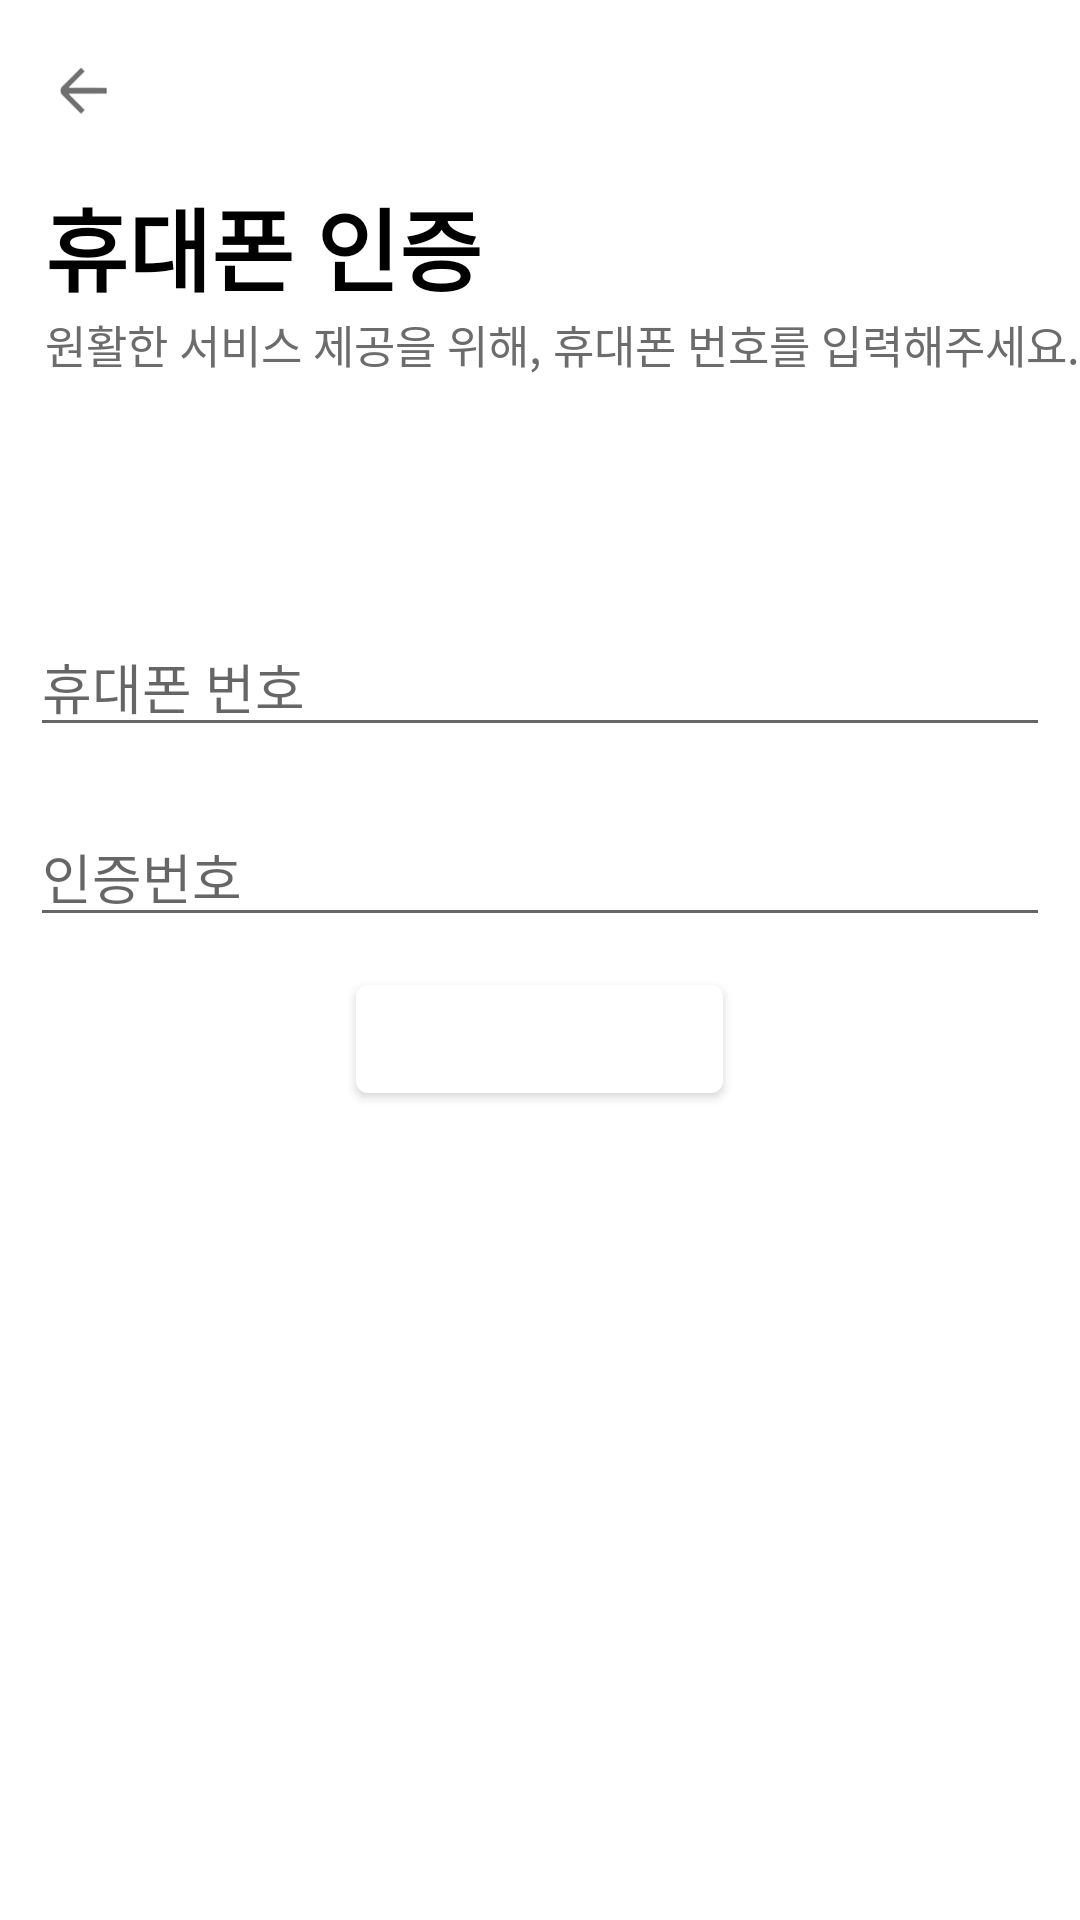

Icons on this 1080px×1920px Android screen, each with the point to tap as (x,y):
back: (83,91)
